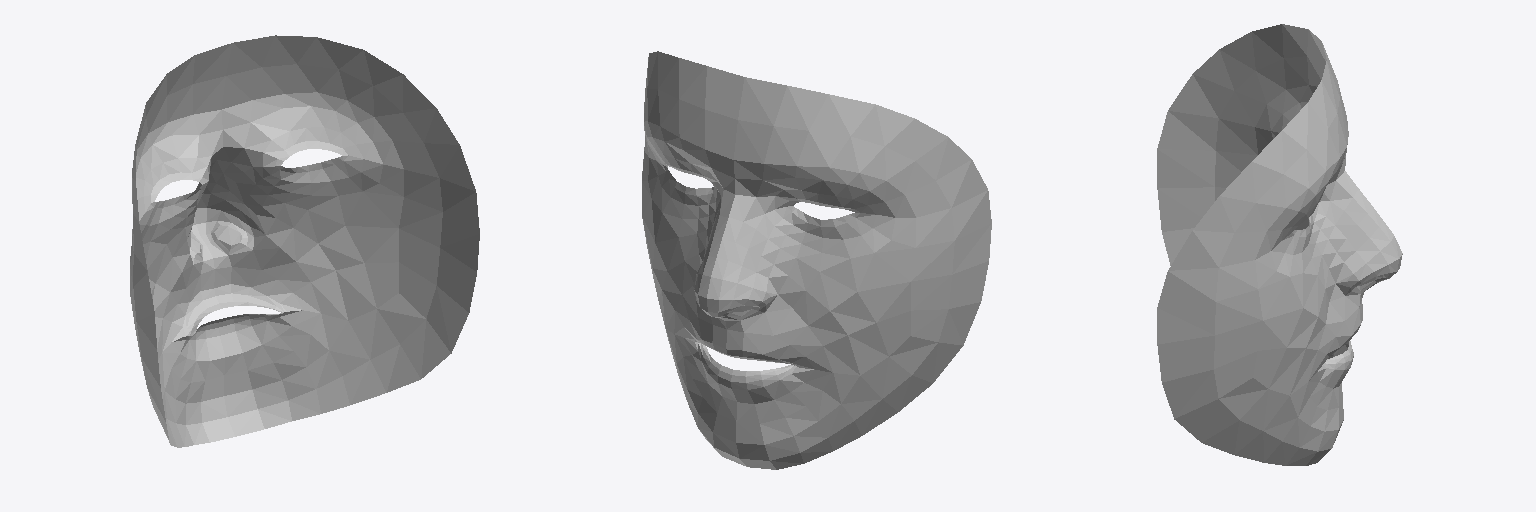
The model's file is canonical head processed.obj.
3 views of the same model, side by side, from view 1: azimuth 30°, elevation 25°; view 2: azimuth 150°, elevation 25°; view 3: azimuth 270°, elevation 25° (orthographic).
Visible parts, largest first — view 1: base_face_model; view 2: base_face_model; view 3: base_face_model.
Part boxes in pixels (left/top/right/bottom): base_face_model: left=130, top=35, right=479, bottom=447; base_face_model: left=642, top=51, right=991, bottom=469; base_face_model: left=1157, top=24, right=1402, bottom=465.
Size of the model in its own units: 0.1549 by 0.1767 by 0.1002.